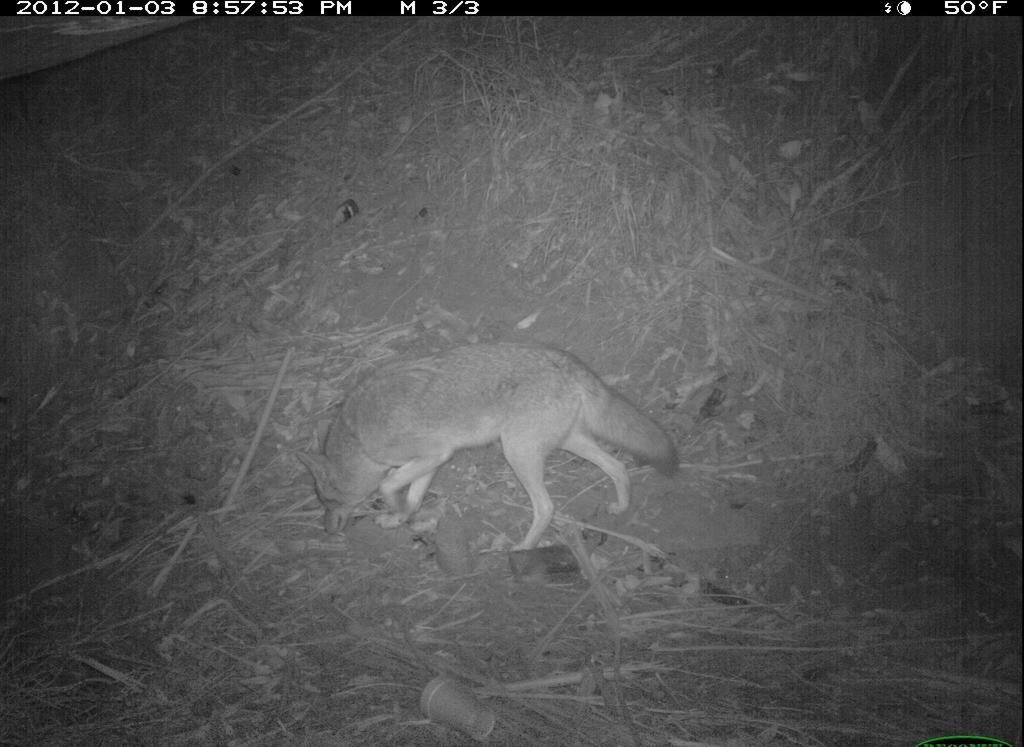coyote: (294, 337, 681, 561)
